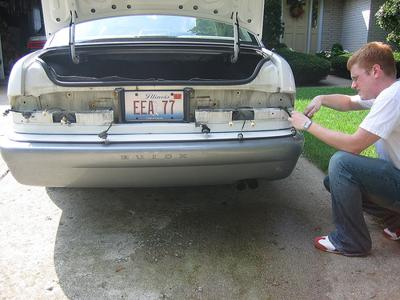person: (286, 41, 400, 257)
